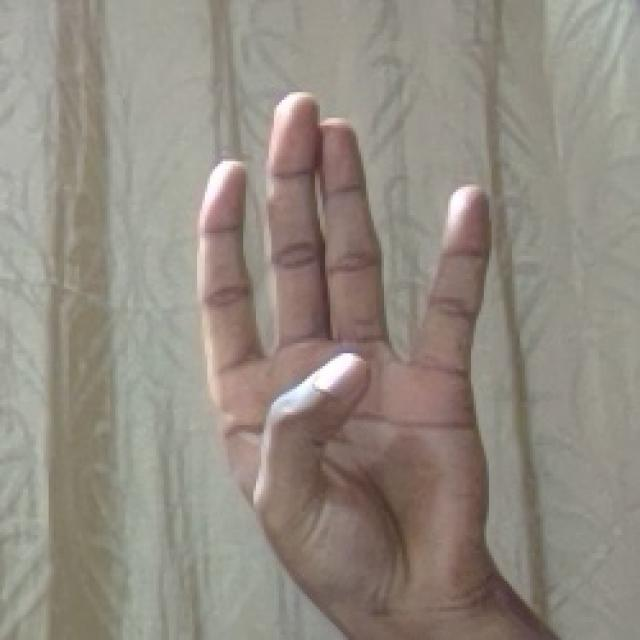Numeric-4: (189, 82, 493, 584)
